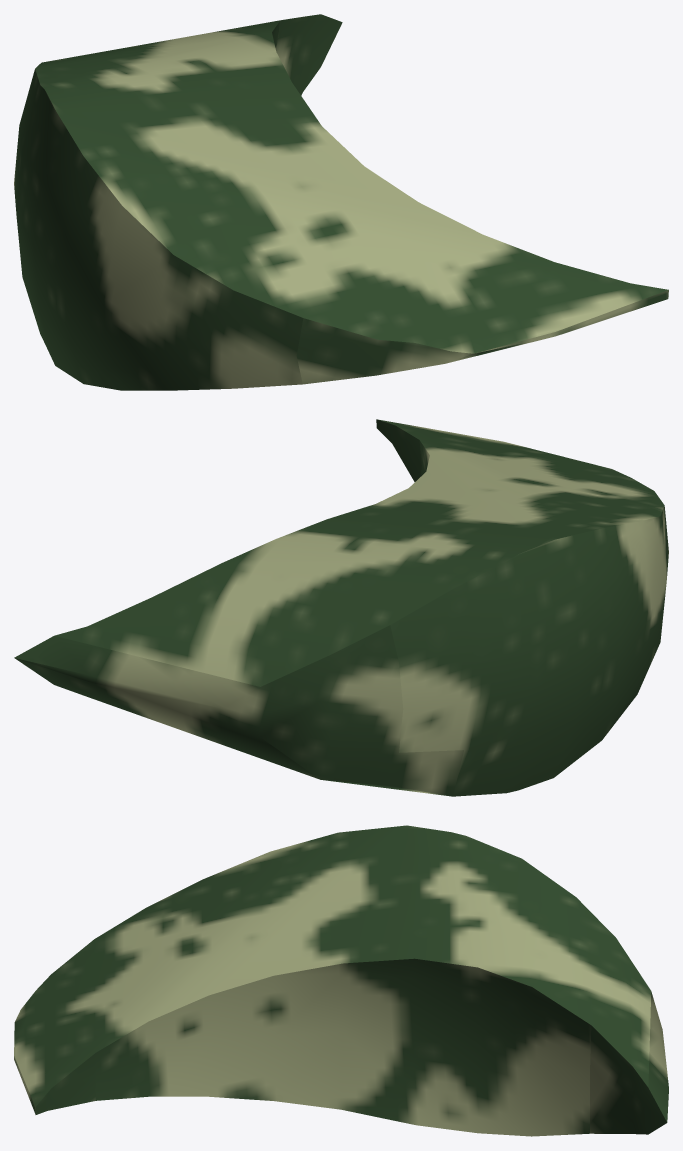
Rendered from link_body_28_composite.obj.
3 renders of one model, top to bottom at view 1: azimuth 30°, elevation 25°; view 2: azimuth 150°, elevation 25°; view 3: azimuth 270°, elevation 25°, orthographic. The views are drawn at different scales.
Visible parts, largest first — view 1: link_body_28; view 2: link_body_28; view 3: link_body_28.
Part boxes in pixels (x1,y1,x2,y2): link_body_28: (14, 14, 668, 390); link_body_28: (14, 419, 668, 796); link_body_28: (14, 825, 668, 1136).
Size of the model in its own units: 7.02 by 3.69 by 9.7.
Materials: 1 (1 with a texture image).
